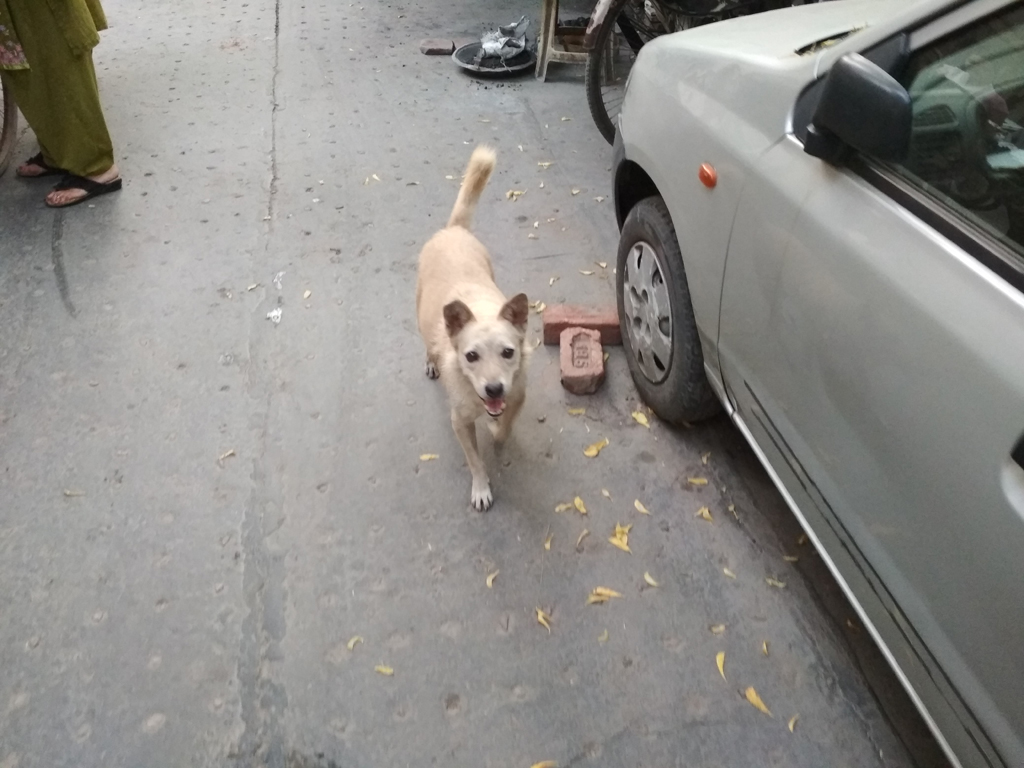dog: (416, 145, 529, 511)
